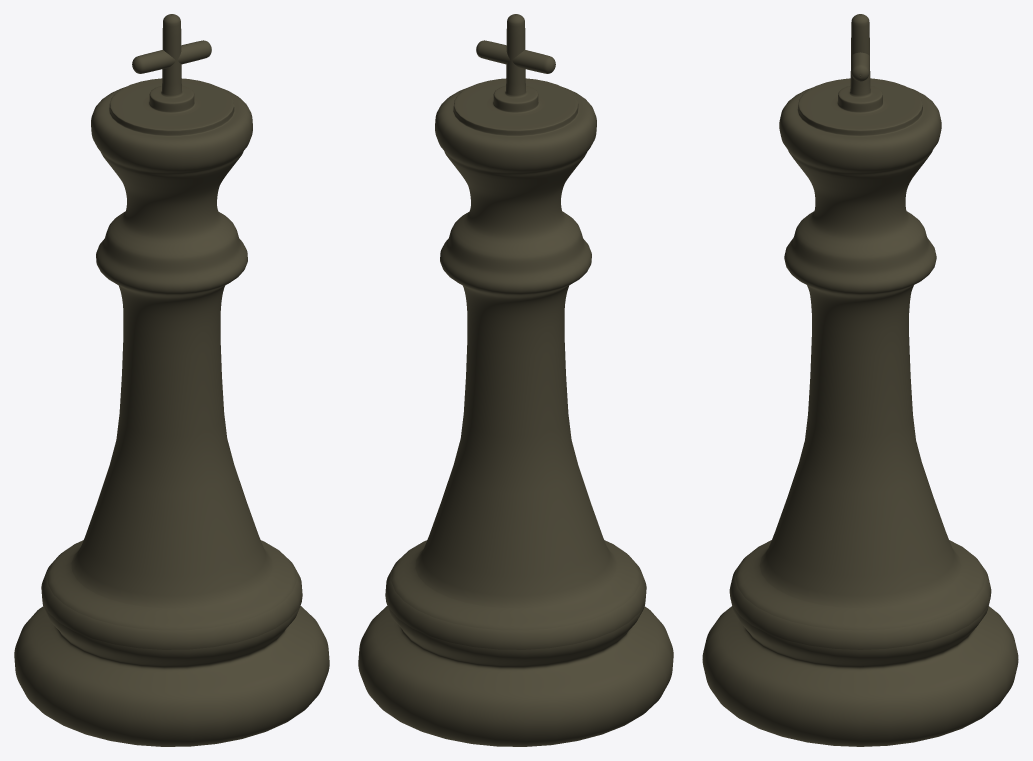
File: white-king.obj
3 views of the same model, side by side, from view 1: azimuth 30°, elevation 25°; view 2: azimuth 150°, elevation 25°; view 3: azimuth 270°, elevation 25° (orthographic).
Visible parts, largest first — view 1: White_chess_side.001; view 2: White_chess_side.001; view 3: White_chess_side.001.
Boxes of the visible parts, x1,y1,x2,y2 form: White_chess_side.001: [14, 14, 329, 746]; White_chess_side.001: [358, 14, 673, 746]; White_chess_side.001: [702, 14, 1018, 746].
Size of the model in its own units: 1.35 by 3.2 by 1.35.
